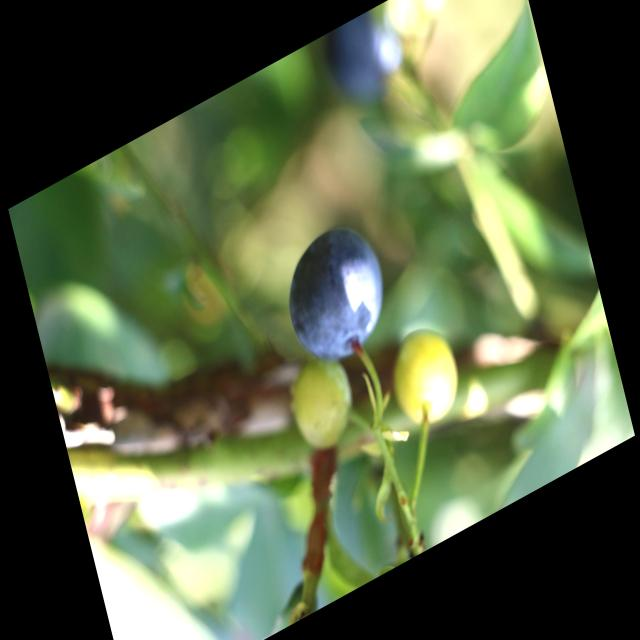blueberry: (263, 196, 401, 386), (315, 0, 411, 124)
blueberry-unripe: (387, 318, 468, 436), (287, 347, 363, 463)
